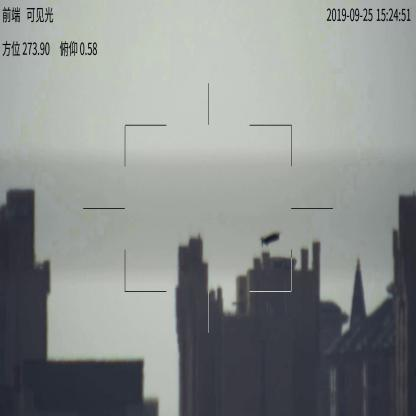uav: (260, 230, 280, 247)
